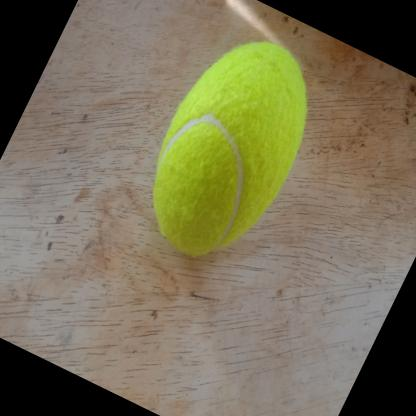Tennis: (118, 12, 340, 283)
